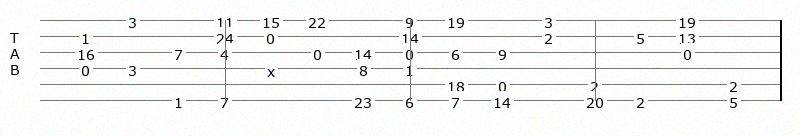0: (81, 61, 94, 75), (266, 29, 279, 43), (313, 45, 326, 59), (405, 45, 418, 59), (498, 77, 511, 91), (683, 45, 696, 59)
1: (81, 29, 94, 43), (174, 93, 187, 107), (405, 61, 418, 75)
11: (216, 13, 238, 27)
13: (678, 29, 700, 43)
14: (354, 45, 376, 59), (401, 29, 423, 43), (493, 93, 515, 107)
15: (262, 13, 284, 27)
16: (77, 45, 99, 59)
18: (447, 77, 469, 91)
19: (447, 13, 469, 27), (678, 13, 700, 27)
2: (544, 29, 557, 43), (590, 77, 603, 91), (636, 93, 649, 107), (729, 77, 742, 91)
20: (586, 93, 608, 107)
22: (308, 13, 330, 27)
23: (354, 93, 376, 107)
24: (216, 29, 238, 43)
3: (128, 61, 141, 75), (128, 13, 141, 27), (544, 13, 557, 27)
4: (220, 45, 233, 59)
5: (636, 29, 649, 43), (729, 93, 742, 107)
6: (405, 93, 418, 107), (451, 45, 464, 59)
7: (174, 45, 187, 59), (220, 93, 233, 107), (451, 93, 464, 107)
8: (359, 61, 372, 75)
9: (405, 13, 418, 27), (498, 45, 511, 59)
x: (267, 62, 279, 74)
